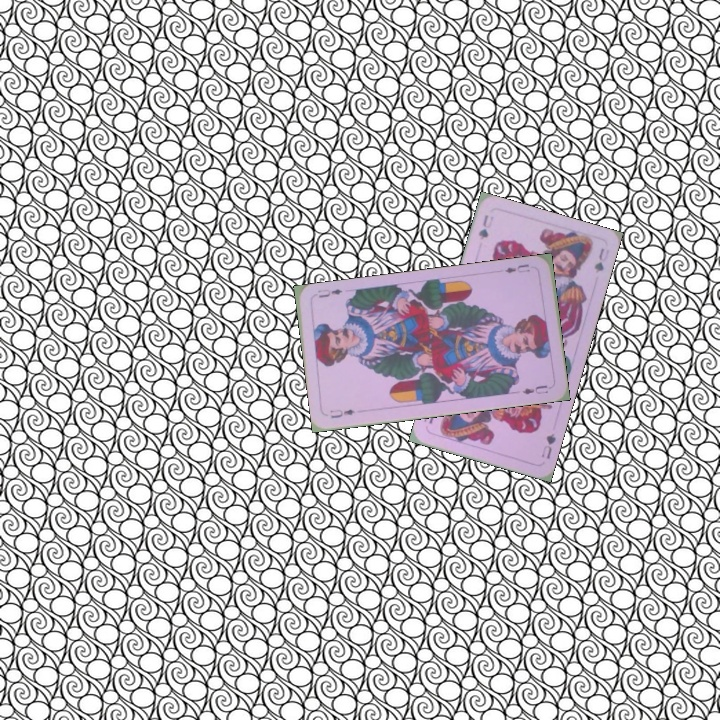EU: (501, 260, 532, 276), (326, 405, 357, 421)
GU: (537, 429, 558, 462), (474, 211, 496, 242)
